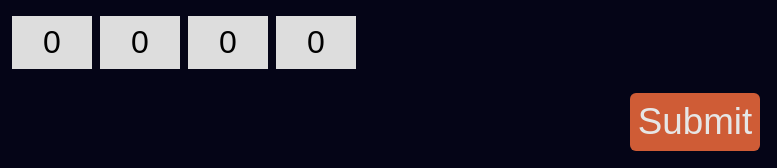
Test case: Tests for Numbers component › Input does not show value below limit
Type "-1" into the 1st field showing "0" at (52, 42), box [12, 16, 92, 69]
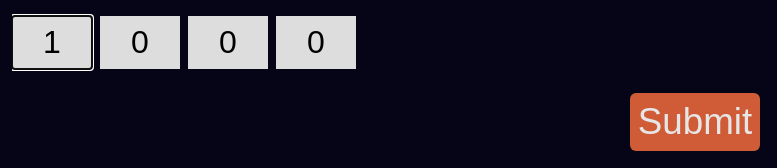
Result: the 1st field showing "0" does not hold "-1" at [12, 16, 92, 69]
